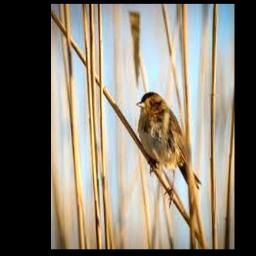Sparrow: (136, 91, 202, 205)
